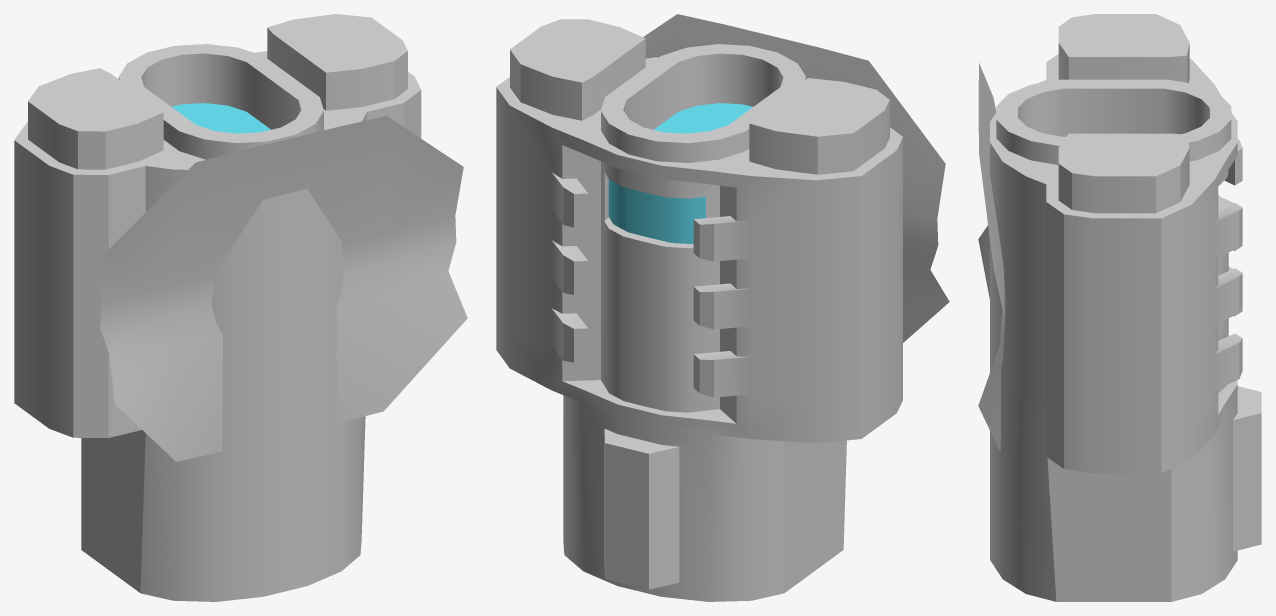
File: Mod_BackPlate_Mirage3.fbx
The picture shows the model from 3 angles, left to right: view 1: azimuth 30°, elevation 25°; view 2: azimuth 150°, elevation 25°; view 3: azimuth 270°, elevation 25°; orthographic projection. The views are drawn at different scales.
Parts seen in each view (by area): view 1: Mod_BackPlate_Mirage3; view 2: Mod_BackPlate_Mirage3; view 3: Mod_BackPlate_Mirage3.
Boxes of the visible parts, x1=… form: Mod_BackPlate_Mirage3: x1=14, y1=14, x2=467, y2=601; Mod_BackPlate_Mirage3: x1=496, y1=14, x2=949, y2=601; Mod_BackPlate_Mirage3: x1=978, y1=14, x2=1261, y2=601.
Size of the model in its own units: 331 by 406 by 230.
